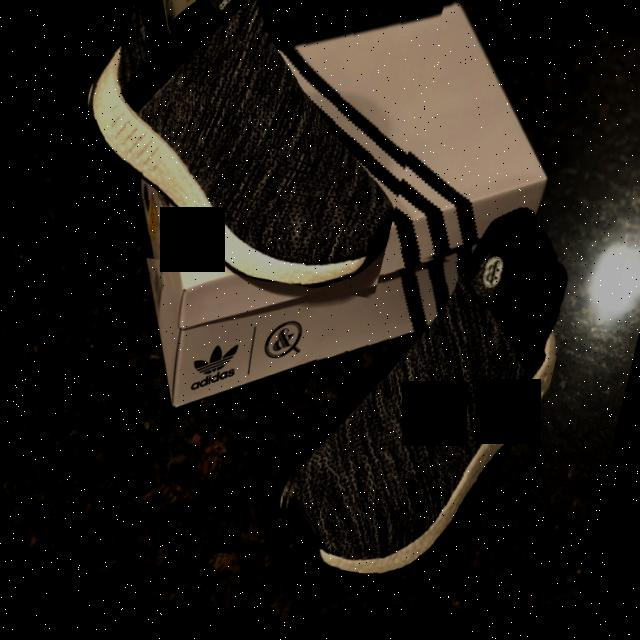shoe: (49, 0, 448, 320), (263, 227, 577, 617)
